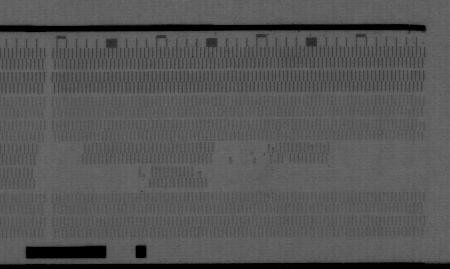Broken hole: (191, 163, 426, 192), (328, 141, 425, 190), (33, 144, 83, 192), (81, 165, 153, 193), (211, 140, 277, 165), (280, 153, 292, 165)
Oblique printing: (415, 118, 427, 140), (317, 142, 331, 154), (306, 141, 317, 155)
